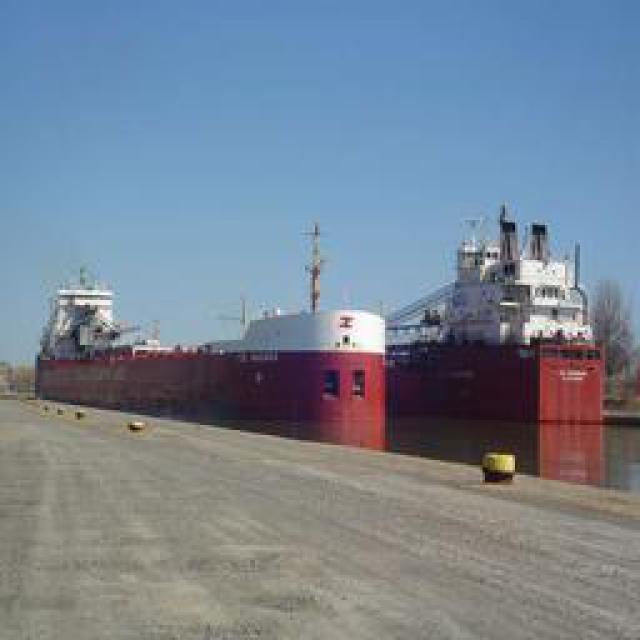Ship: (30, 272, 390, 430)
